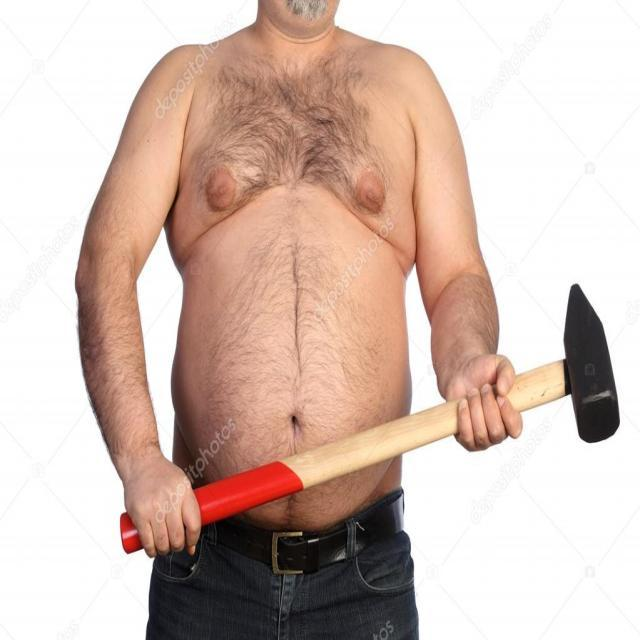hammer: (113, 276, 624, 564)
